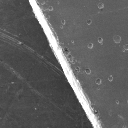corrosion: (111, 34, 122, 44), (96, 1, 105, 11), (94, 76, 102, 86), (62, 46, 70, 56), (86, 41, 94, 50), (96, 36, 104, 45), (84, 67, 92, 75), (107, 74, 115, 82), (86, 17, 92, 26), (48, 4, 54, 12), (60, 19, 66, 25)
